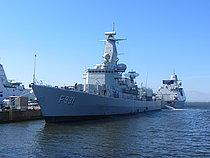MIL_Ship: (30, 30, 162, 121), (154, 71, 187, 110)
